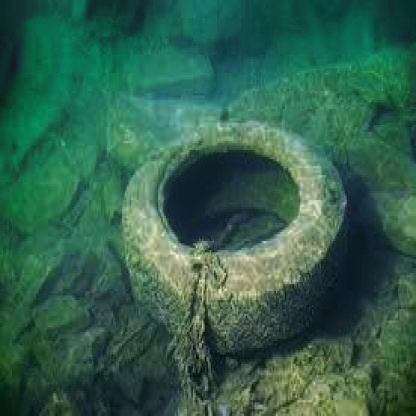tire: (100, 114, 361, 357)
